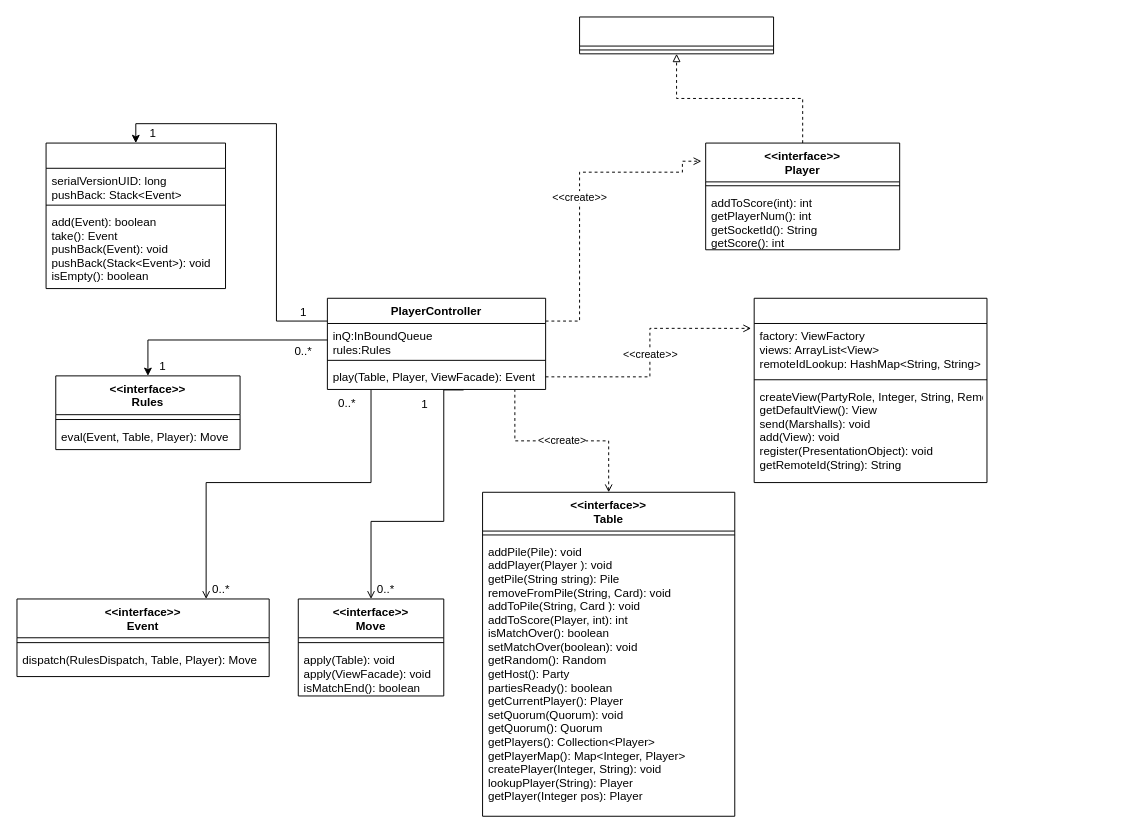
This 1123x836 diagram has some shape labels left out. The shapes that lost their labels are listed below. From the top down, each one's box as (x1, y1, x2, y2) in pixels, then its label:
(579, 16, 774, 54): Party
(45, 142, 226, 289): InBoundQueue
(753, 297, 987, 483): ViewFacade
